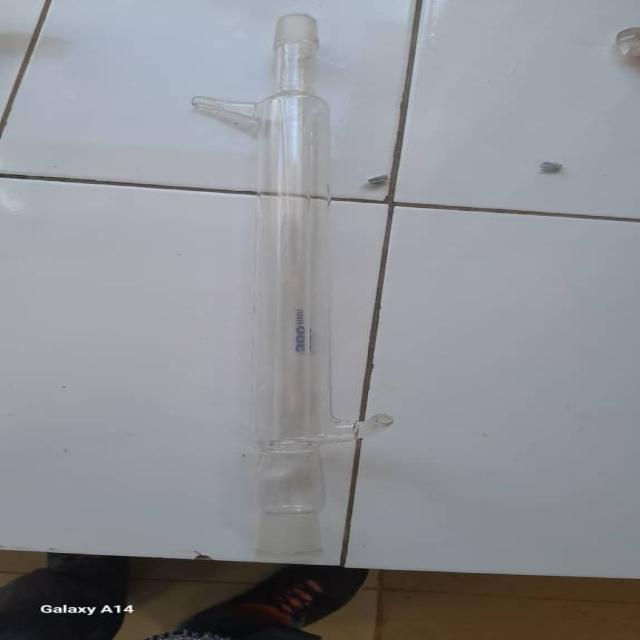Distillation: (170, 10, 412, 568)
